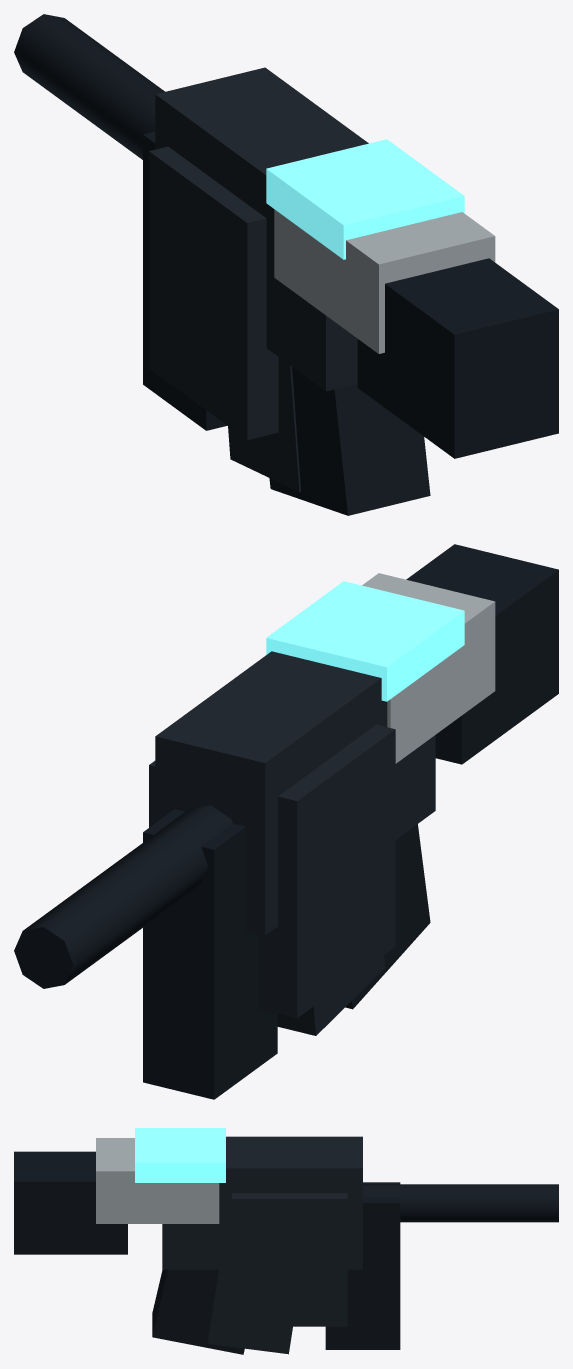
Rendered from np_z05_lourde_ameliore.glb.
3 views of the same model, one above another, from view 1: azimuth 30°, elevation 25°; view 2: azimuth 150°, elevation 25°; view 3: azimuth 270°, elevation 25° (orthographic). The views are drawn at different scales.
Visible parts, largest first — view 1: Crosse, Tambour, Corps, Culasse, Poignee, ModuleAmeliore, Canon, Chargeur, PoigneeAvant; view 2: Corps, Tambour, PoigneeAvant, Crosse, Canon, ModuleAmeliore, Culasse, Poignee, Chargeur; view 3: Tambour, Corps, Crosse, PoigneeAvant, Culasse, Canon, ModuleAmeliore, Poignee, Chargeur.
Boxes of the visible parts, x1,y1,x2,y2 form: Crosse: (357,258,558,458); Tambour: (149,146,278,439); Corps: (155,67,368,391); Culasse: (274,209,495,353); Poignee: (269,367,430,515); ModuleAmeliore: (266,139,464,259); Canon: (14,14,164,159); Chargeur: (228,357,300,492); PoigneeAvant: (143,131,226,430); Corps: (155,651,435,935); Tambour: (149,724,395,1018); PoigneeAvant: (143,809,277,1099); Crosse: (406,544,558,764); Canon: (14,805,232,988); ModuleAmeliore: (266,581,464,701); Culasse: (362,573,495,763); Poignee: (345,824,430,1009); Chargeur: (277,955,384,1035); Tambour: (232,1193,347,1326); Corps: (162,1136,362,1269); Crosse: (14,1151,127,1254); PoigneeAvant: (325,1182,400,1349); Culasse: (96,1138,219,1223); Canon: (363,1184,558,1222); ModuleAmeliore: (135,1128,225,1182); Poignee: (152,1269,244,1354); Chargeur: (207,1269,292,1354).
Bounding box in the file's own units: 0.243 × 0.526 × 1.31.
